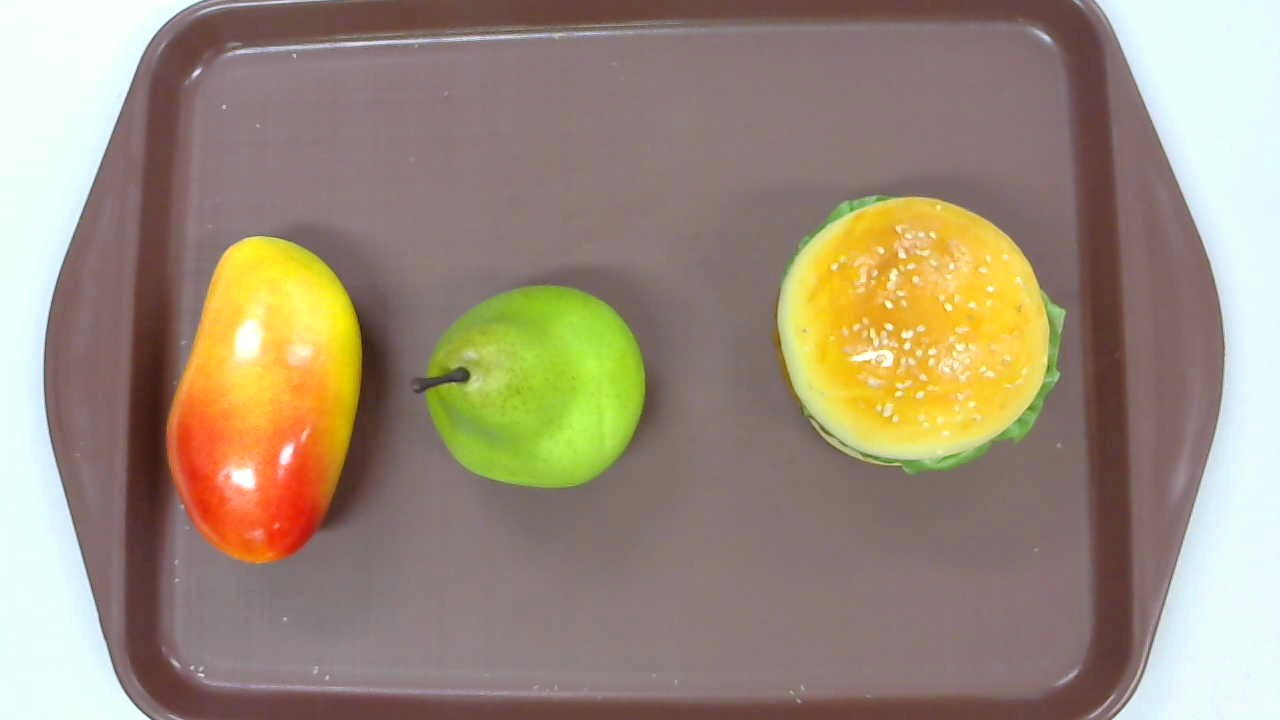green pear: (410, 284, 647, 491)
hamburger: (772, 194, 1066, 474)
red mango: (166, 236, 361, 566)
